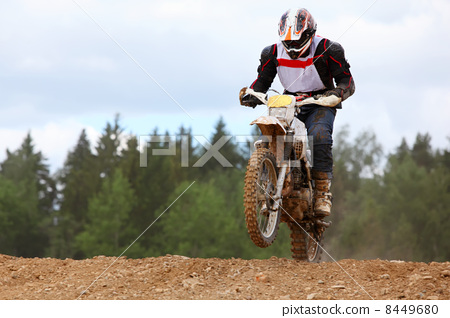helmet: (272, 4, 320, 51)
